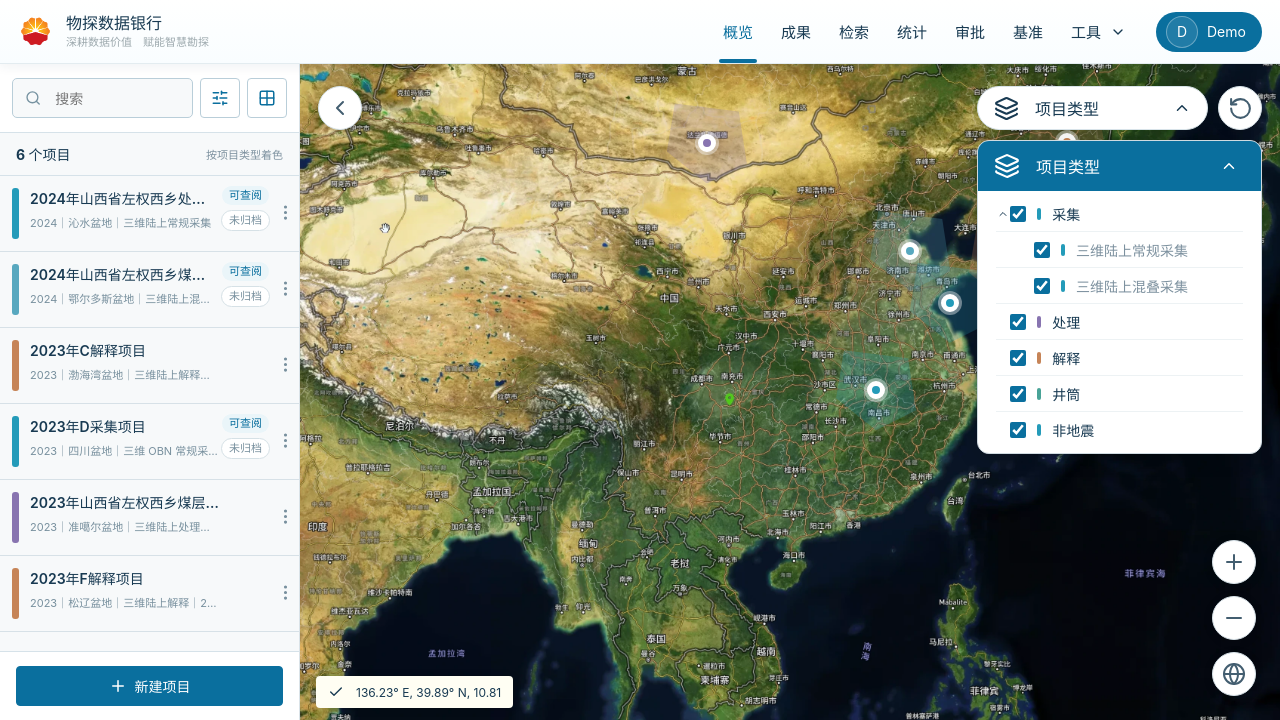
Scenario: Demo 菜单与本地登录 › Alt Q 在输入框或弹窗内无效，在页面可退出
Press q in the field named "搜索项目", box [53,88,180,108]
Check: the heading "欢迎登录" is not shown
Click the button "新建项目": click(150, 686) [16,666,283,706]
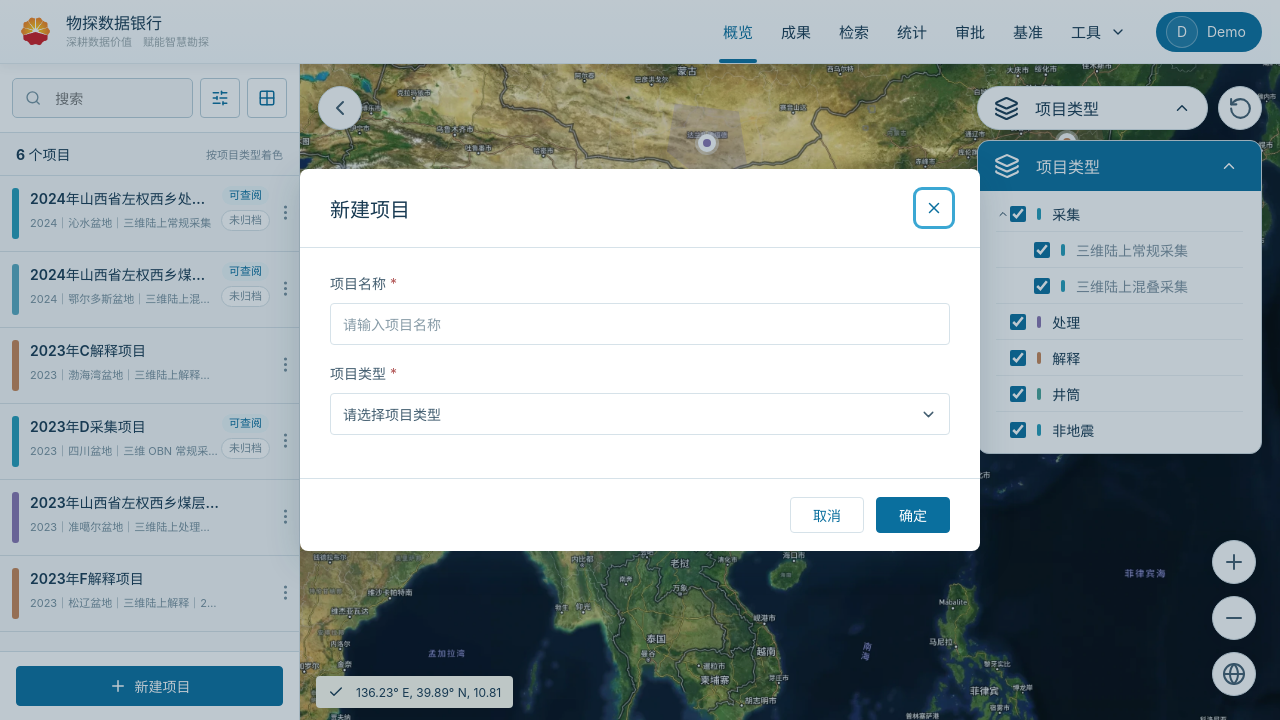
Press q
Check: the dialog "新建项目" is shown, box [300,169,980,551]
Click the button "取消": click(827, 515) [790,497,864,533]
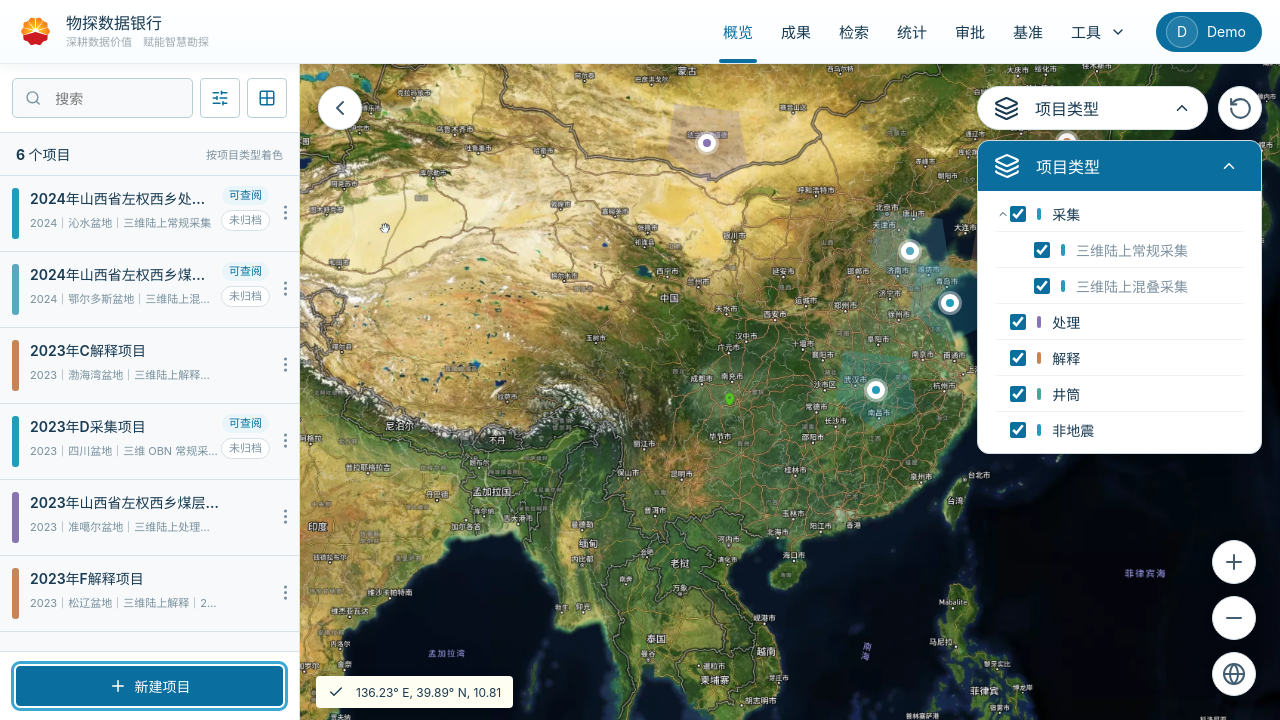
Press q
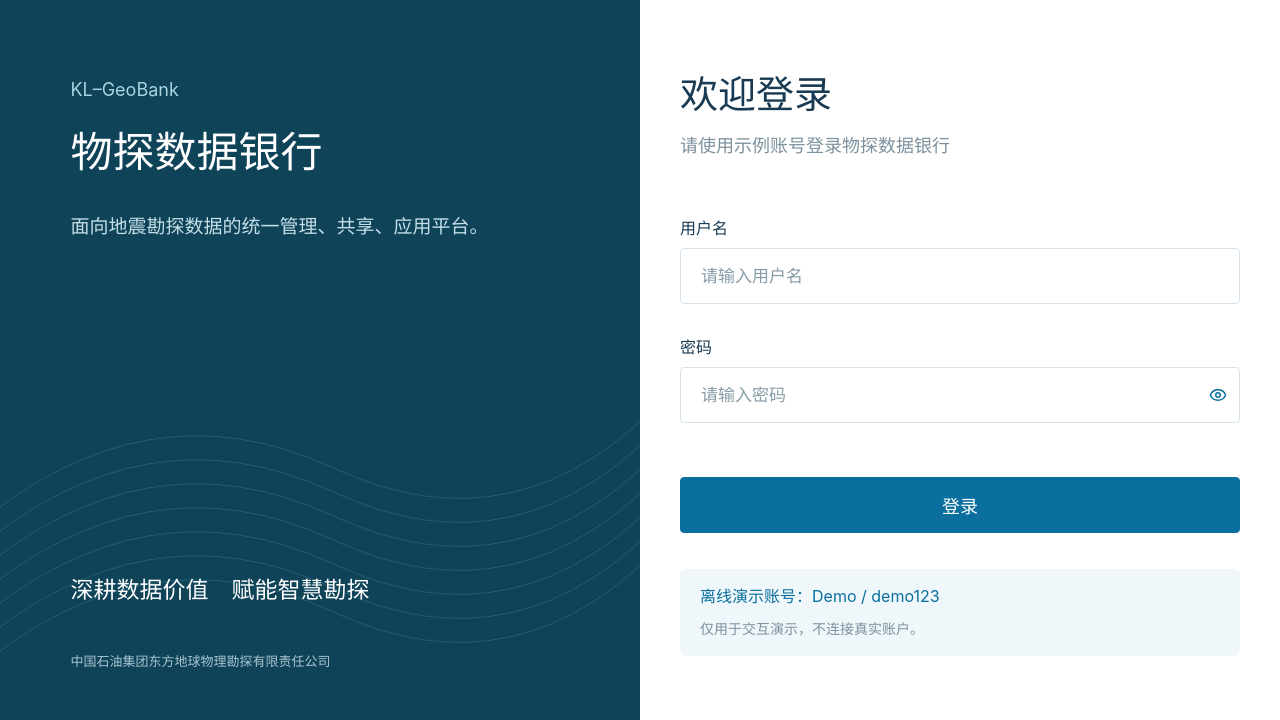
Check: the heading "欢迎登录" is shown, box [680,71,832,117]
